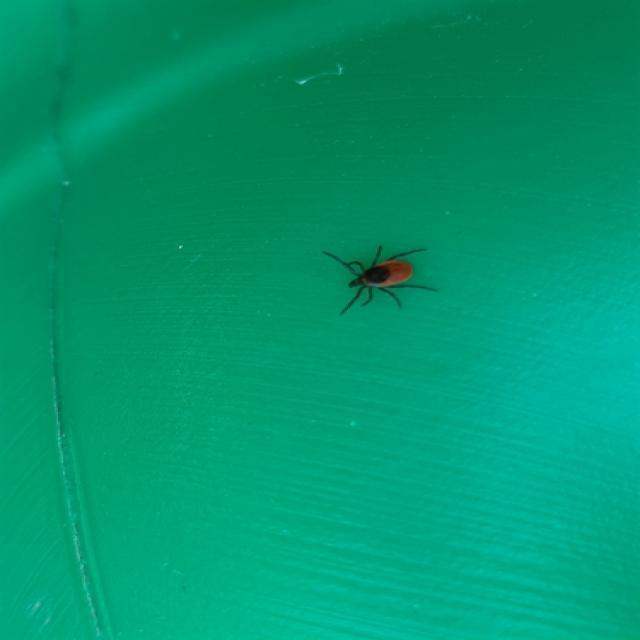Ixodes Ricinus-F: (319, 239, 440, 317)
